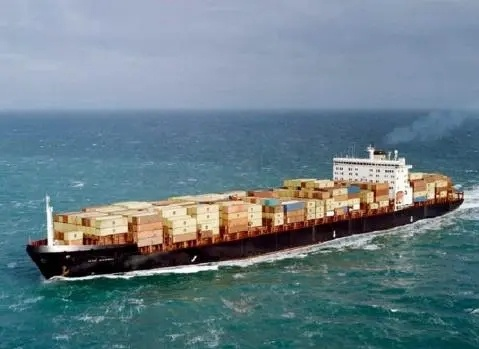Cargoship: (22, 133, 465, 279)
